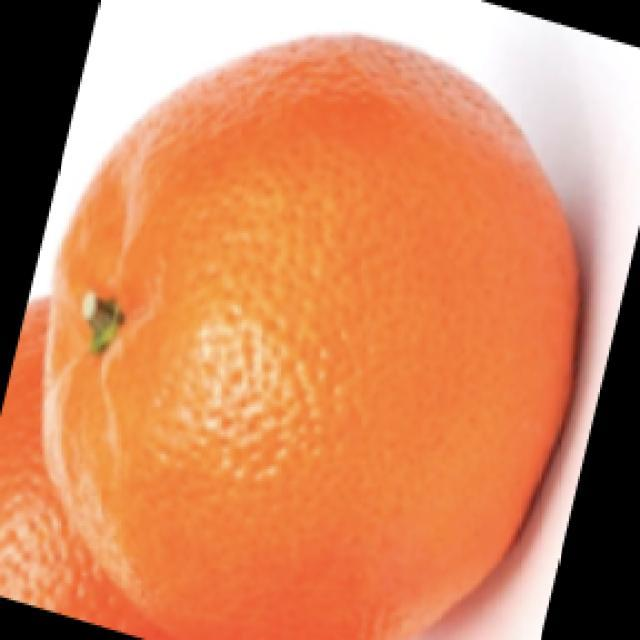Orange: (37, 31, 583, 639), (0, 288, 182, 640)
